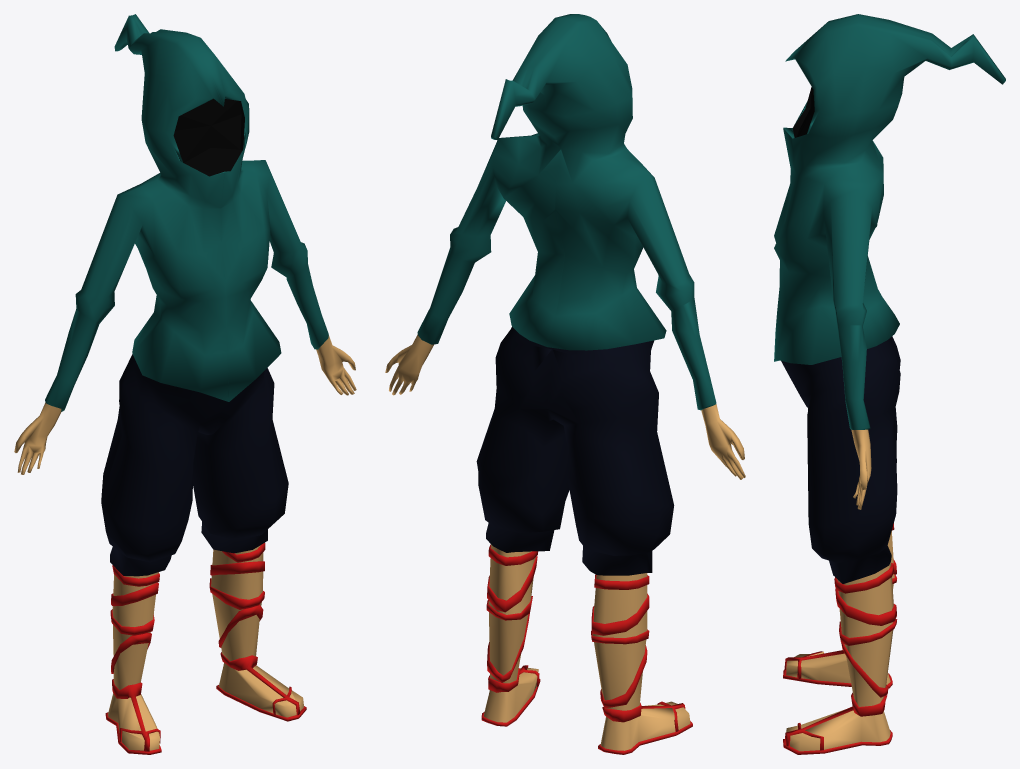
File: ari hands down.FBX
3 views of the same model, side by side, from view 1: azimuth 30°, elevation 25°; view 2: azimuth 150°, elevation 25°; view 3: azimuth 270°, elevation 25° (orthographic). The views are drawn at different scales.
Visible parts, largest first — view 1: Box001; view 2: Box001; view 3: Box001.
Part boxes in pixels (<box>): Box001: <box>14,14,356,754</box>; Box001: <box>385,14,745,754</box>; Box001: <box>774,14,1005,754</box>.
Size of the model in its own units: 0.187 by 0.3529 by 0.1072.
